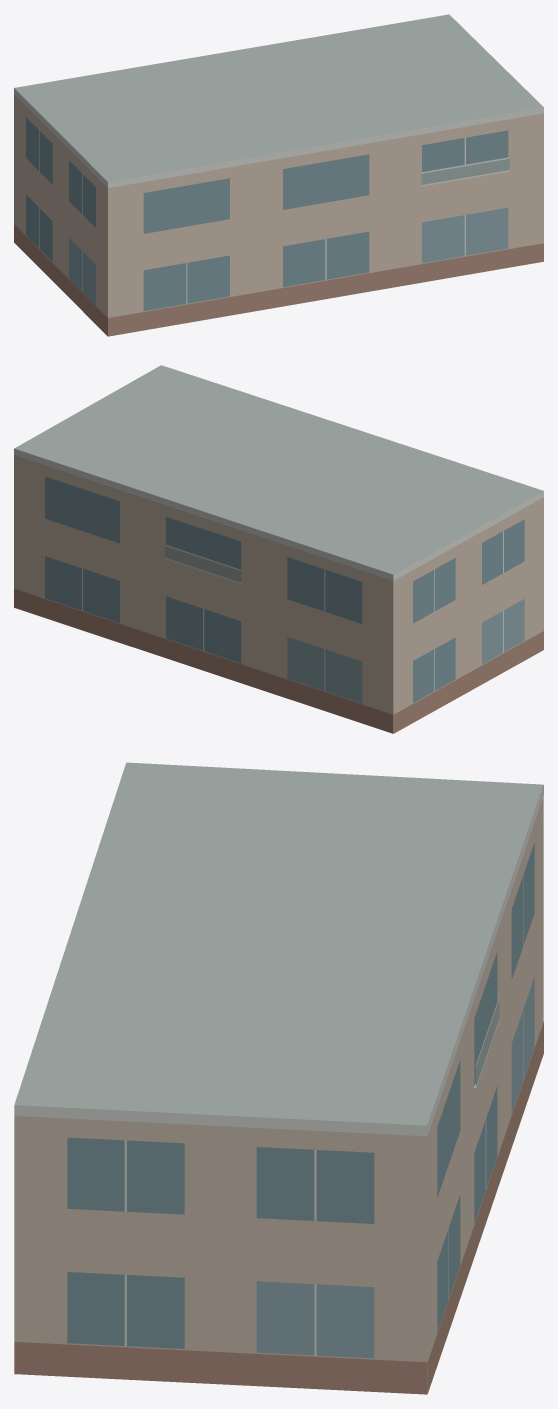
File: survey-upis-32894232.glb
3 views of the same model, one above another, from view 1: azimuth 30°, elevation 25°; view 2: azimuth 150°, elevation 25°; view 3: azimuth 270°, elevation 25° (orthographic). The views are drawn at different scales.
Parts seen in each view (by area): view 1: survey-upis-32894232.tmp; view 2: survey-upis-32894232.tmp; view 3: survey-upis-32894232.tmp.
Boxes of the visible parts, x1,y1,x2,y2 form: survey-upis-32894232.tmp: (14,14,543,336); survey-upis-32894232.tmp: (14,365,543,733); survey-upis-32894232.tmp: (14,762,543,1394).
Bounding box in the file's own units: 17.69 × 6.1 × 10.9.
